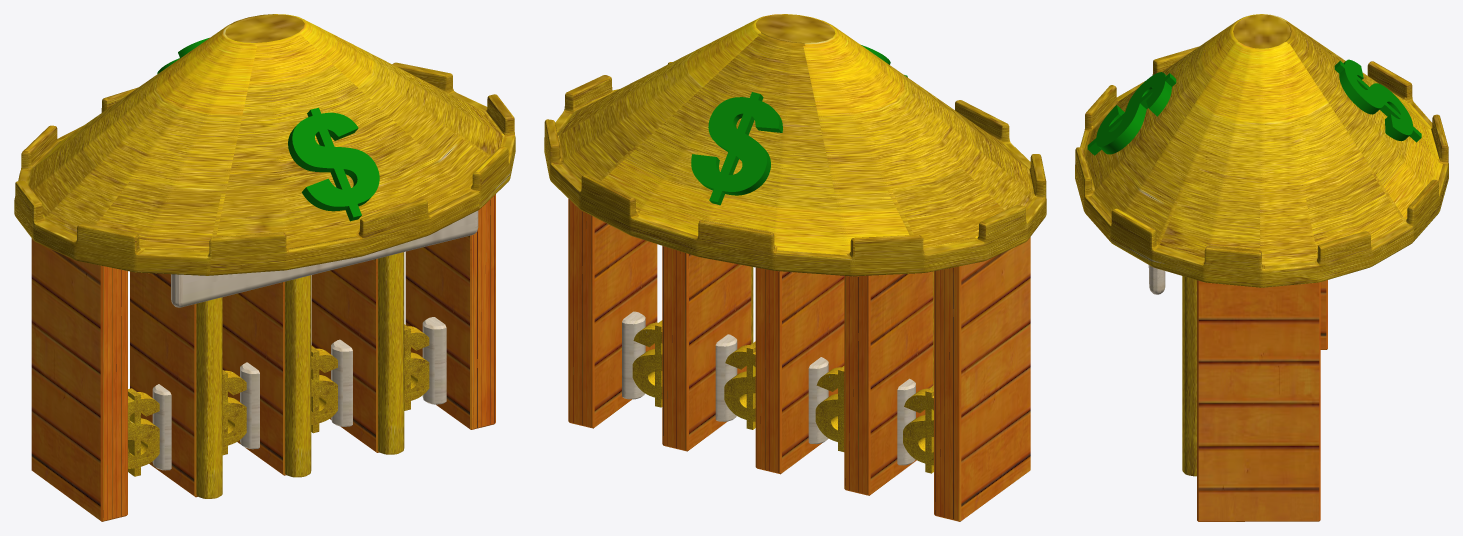
File: kawaiine_entree.fbx
3 renders of one model, left to right at view 1: azimuth 30°, elevation 25°; view 2: azimuth 150°, elevation 25°; view 3: azimuth 270°, elevation 25°, orthographic. The views are drawn at different scales.
Visible parts, largest first — view 1: chapiteau, mur_01, mur_02, mur_03, mur_05, mur_04, dollar_01, colonne_03, colonne_02, colonne_01, panneau, dollar_03 (+7 smaller); view 2: chapiteau, mur_01, mur_03, mur_02, mur_04, mur_05, dollar_02, dollar_06, dollar_03, dollar_07, dollar_05, pCylinder9 (+3 smaller); view 3: chapiteau, mur_02, dollar_01, colonne_03, dollar_02, mur_01.
Boxes of the visible parts, x1=… form: chapiteau: x1=14, y1=14, x2=515, y2=275; mur_01: x1=31, y1=238, x2=127, y2=521; mur_02: x1=405, y1=194, x2=495, y2=429; mur_03: x1=130, y1=271, x2=197, y2=497; mur_05: x1=311, y1=258, x2=379, y2=452; mur_04: x1=222, y1=281, x2=286, y2=475; dollar_01: x1=288, y1=107, x2=379, y2=221; colonne_03: x1=378, y1=252, x2=404, y2=454; colonne_02: x1=285, y1=275, x2=311, y2=477; colonne_01: x1=196, y1=297, x2=222, y2=498; panneau: x1=171, y1=210, x2=478, y2=307; dollar_03: x1=128, y1=388, x2=159, y2=476; chapiteau: x1=544, y1=14, x2=1046, y2=276; mur_01: x1=934, y1=237, x2=1030, y2=521; mur_03: x1=844, y1=271, x2=933, y2=495; mur_02: x1=568, y1=198, x2=657, y2=428; mur_04: x1=755, y1=267, x2=844, y2=474; mur_05: x1=662, y1=246, x2=751, y2=451; dollar_02: x1=691, y1=92, x2=782, y2=205; dollar_06: x1=724, y1=341, x2=755, y2=429; dollar_03: x1=903, y1=385, x2=933, y2=473; dollar_07: x1=632, y1=320, x2=662, y2=407; dollar_05: x1=815, y1=366, x2=844, y2=451; pCylinder9: x1=622, y1=311, x2=645, y2=399; chapiteau: x1=1075, y1=14, x2=1448, y2=287; mur_02: x1=1197, y1=280, x2=1320, y2=521; dollar_01: x1=1087, y1=72, x2=1176, y2=155; colonne_03: x1=1182, y1=276, x2=1196, y2=476; dollar_02: x1=1334, y1=59, x2=1421, y2=142; mur_01: x1=1320, y1=280, x2=1327, y2=349.
Bounding box in the file's own units: 165 × 143 × 121.
Materials: 4 (4 with a texture image).
